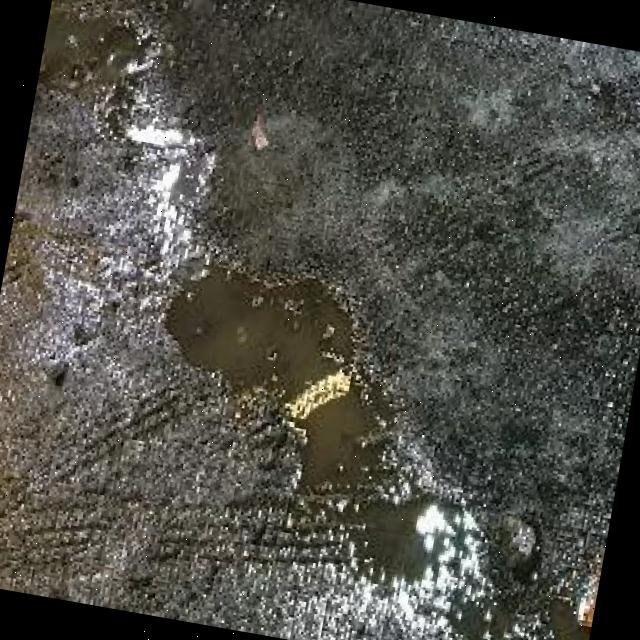stagnation: (114, 240, 492, 590)
